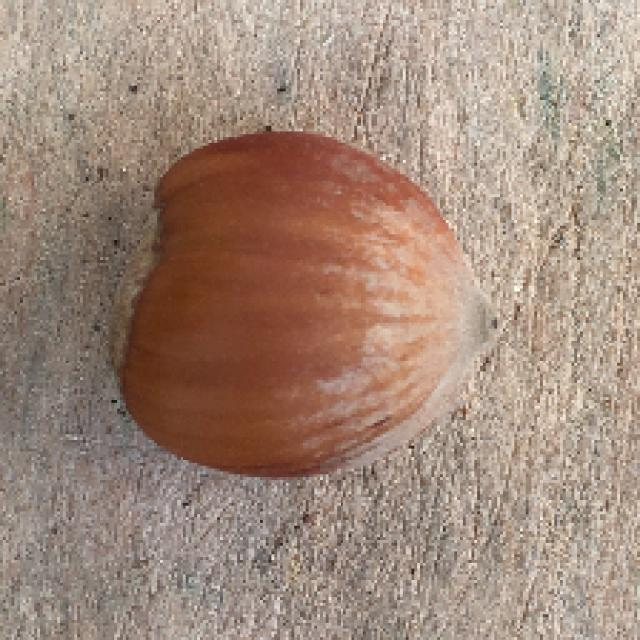qualityHazelnut: (99, 135, 500, 471)
